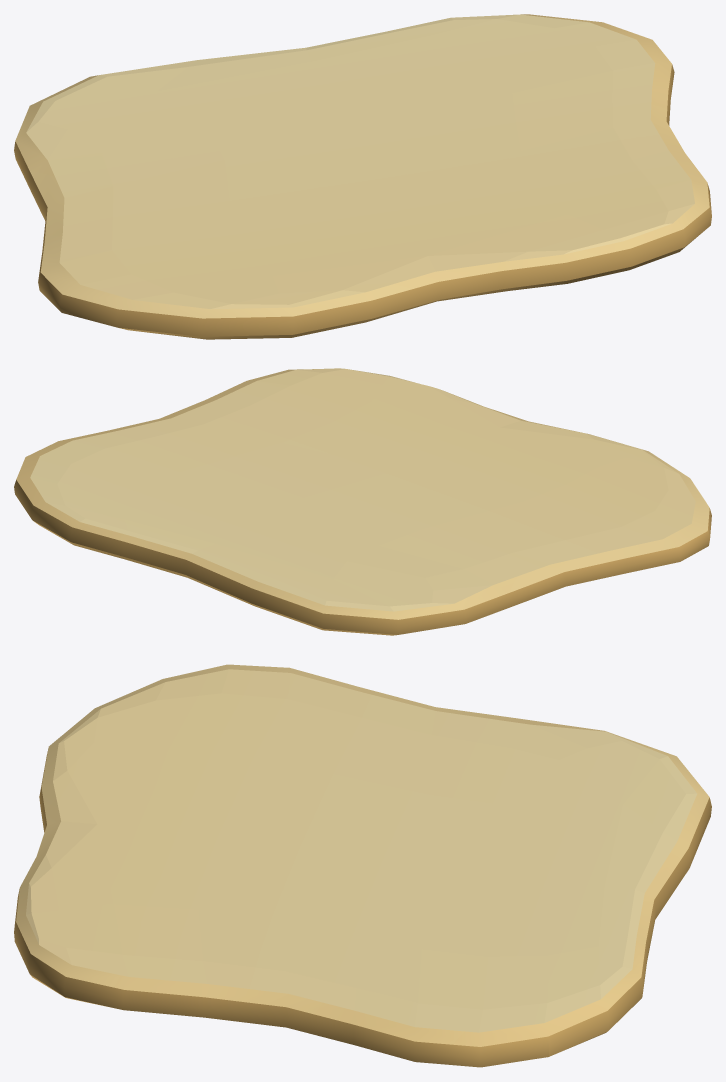
File: floor_sand.gltf
3 renders of one model, top to bottom at view 1: azimuth 30°, elevation 25°; view 2: azimuth 150°, elevation 25°; view 3: azimuth 270°, elevation 25°, orthographic. The views are drawn at different scales.
Visible parts, largest first — view 1: FloorSand; view 2: FloorSand; view 3: FloorSand.
Boxes of the visible parts, x1=… form: FloorSand: x1=14, y1=14, x2=711, y2=339; FloorSand: x1=14, y1=368, x2=711, y2=635; FloorSand: x1=14, y1=664, x2=711, y2=1067.
Bounding box in the file's own units: 8.85 × 0.3698 × 6.78.
Materials: 1 (1 with a texture image).
